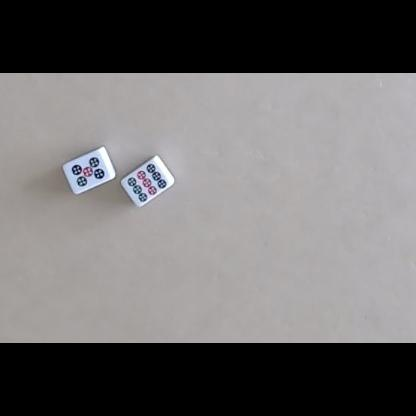5p: (71, 157, 106, 187)
9p: (127, 164, 167, 202)
